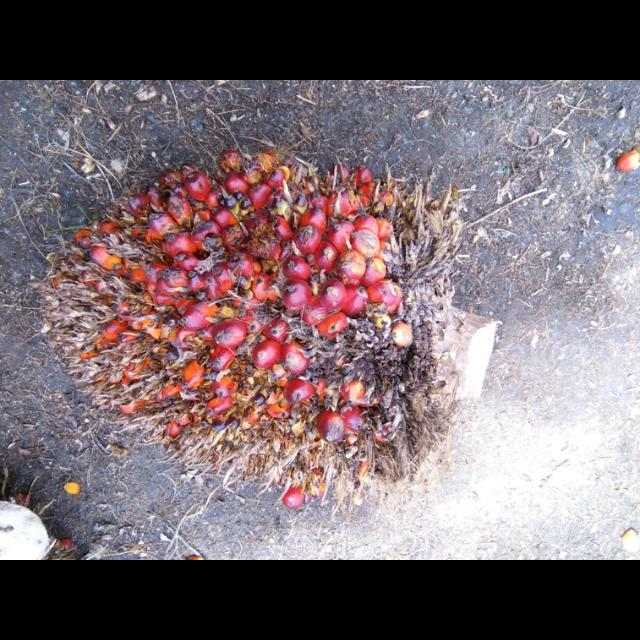Ripe: (46, 147, 453, 519)
